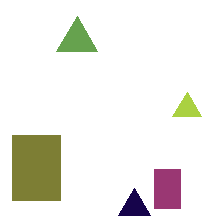rectangle: (12, 135, 60, 200), (154, 169, 180, 208)
triangle: (56, 16, 97, 51), (118, 188, 150, 215), (172, 92, 201, 116)
